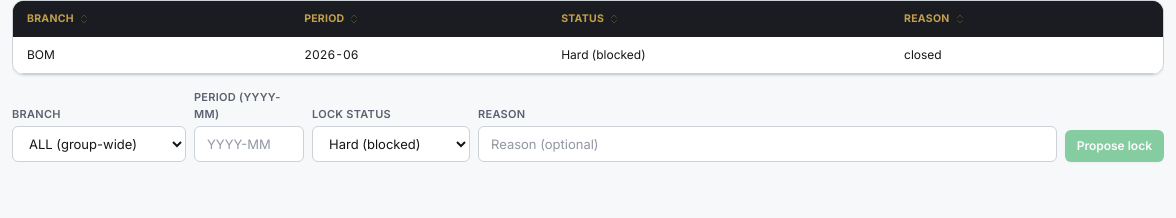
Scenario: PeriodLockAdmin container › renders current locks and files a change-request on propose
Check: the text "2026-06" is shown, box x1=290 y1=37 x2=547 y2=74
Type "2026-07" into the field labelled "Period (YYYY-MM)". click: (249, 144)
box: x1=194 y1=126 x2=304 y2=162
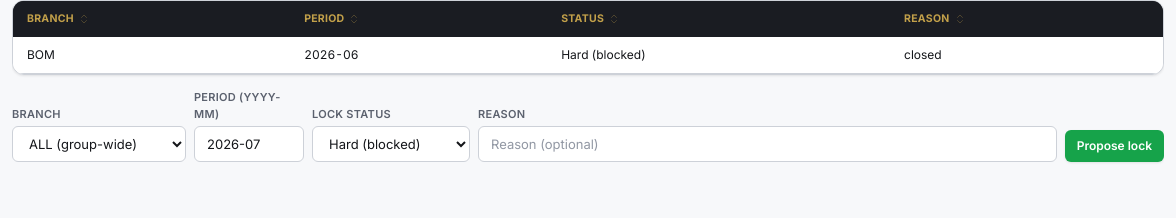
Click the button "Propose lock". click: click(1114, 146)
box: x1=1065 y1=130 x2=1164 y2=162
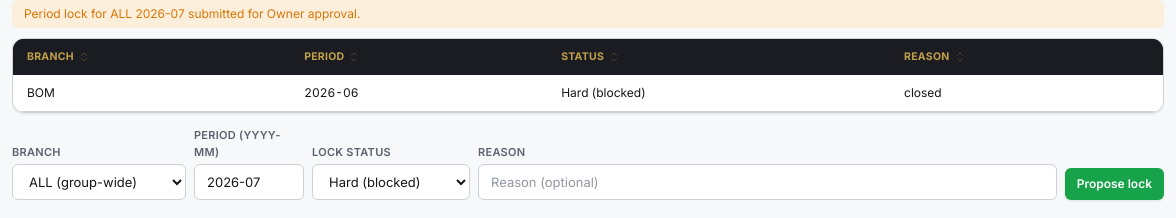
Check: the message shows "submitted for Owner approval", box x1=24 y1=6 x2=360 y2=21
